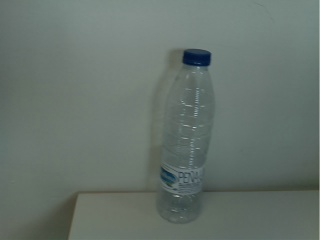botella plastico: (155, 47, 217, 226)
